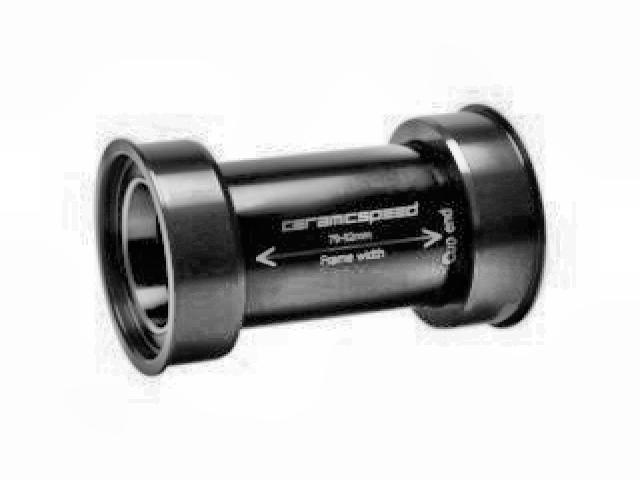bottom_bracket: (91, 103, 549, 377)
